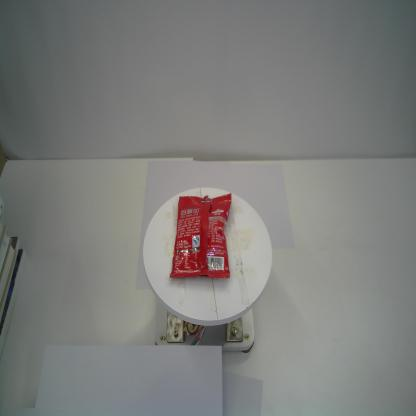Instant Drink: (168, 191, 234, 281)
